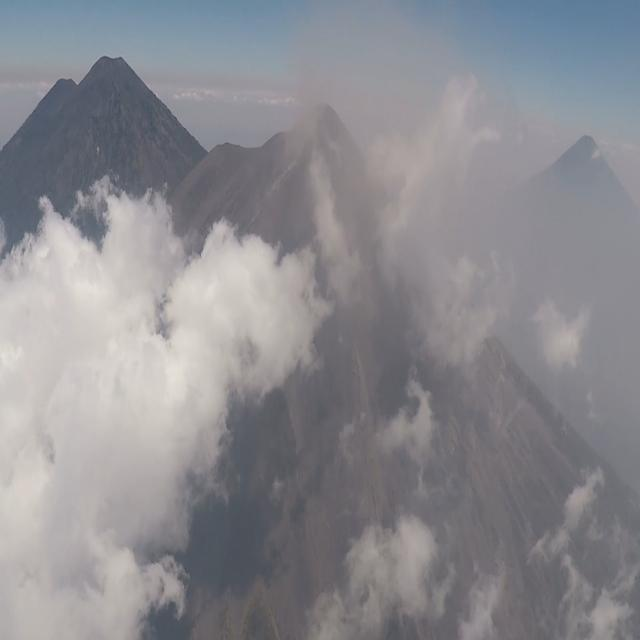Summit: (262, 96, 371, 182)
